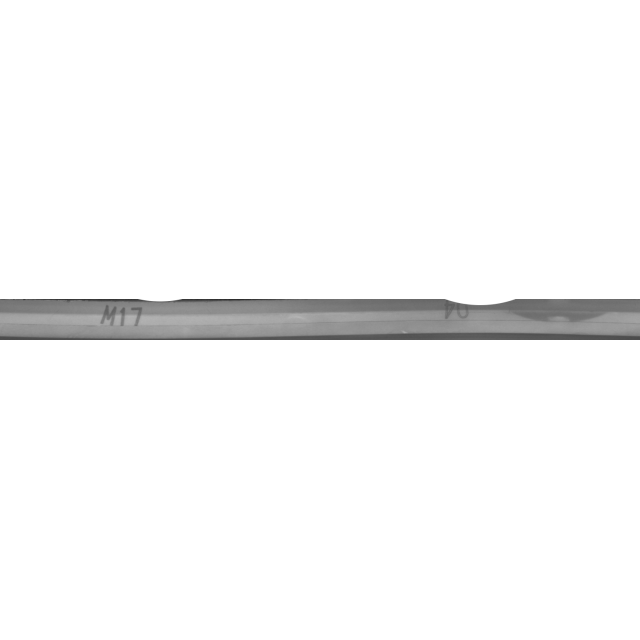mohao: (29, 270, 229, 370)
xuehao: (360, 270, 560, 370)
